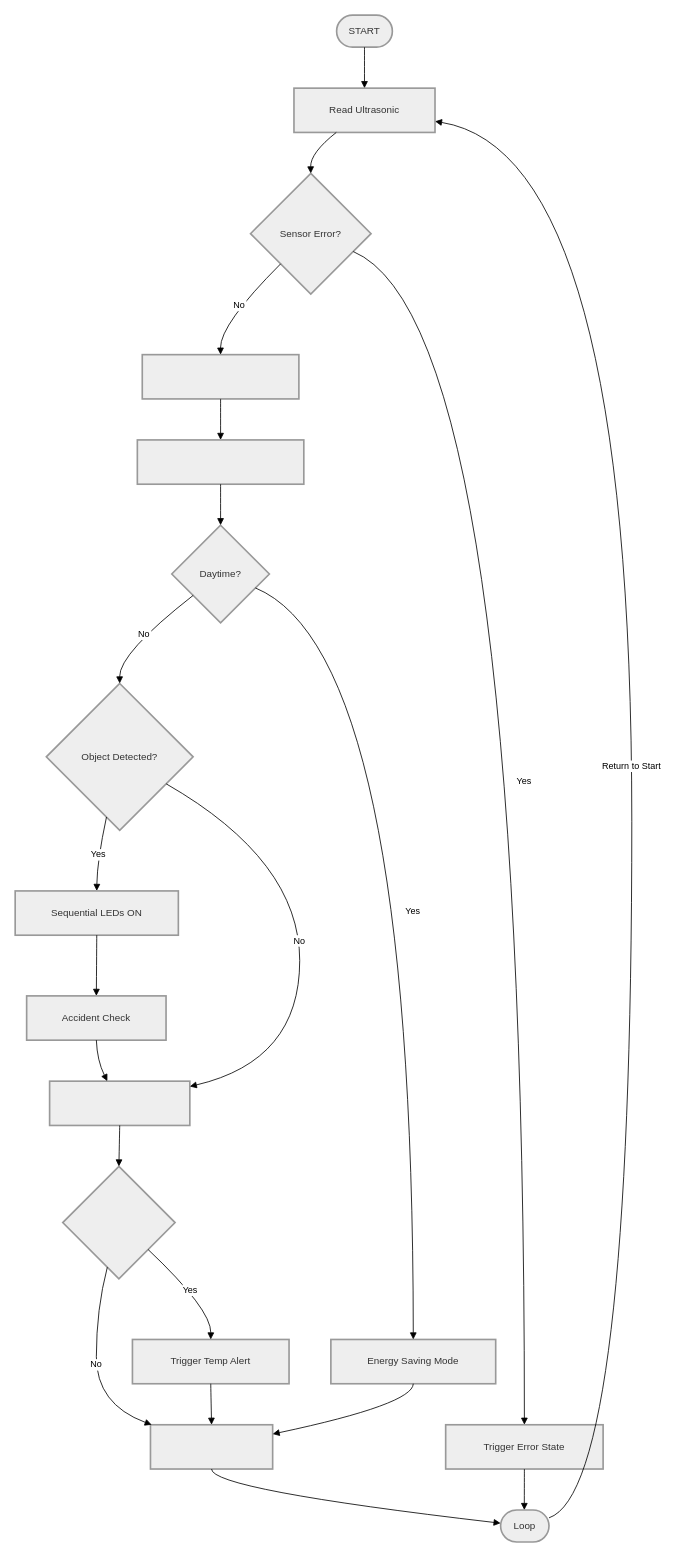
Some shapes in this 676 by 1556 pixel diagram are drawn without their labels. Each missing label, with the centre of its shape:
"Display Data" goes at point 211,1446.
"Fault Detection" goes at point 119,1103.
"Read Potentiometer" goes at point 220,462.
"Read Temperature" goes at point 220,376.
"Temp Alert?" goes at point 118,1222.
